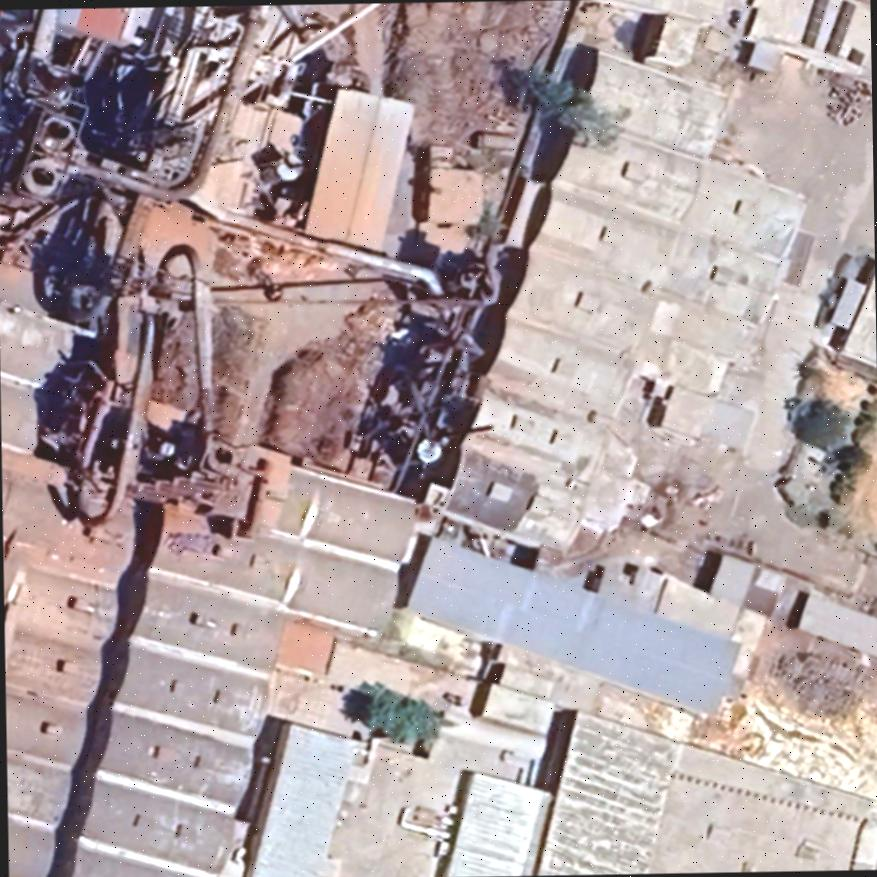Solarpanel: (820, 0, 860, 63), (794, 0, 830, 57), (842, 44, 864, 68)
